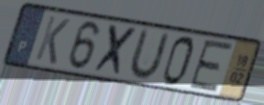0: (161, 35, 196, 87)
6: (65, 19, 103, 72)
E: (187, 39, 236, 94)
K: (32, 13, 72, 67)
U: (125, 26, 172, 82)
X: (91, 22, 141, 79)
